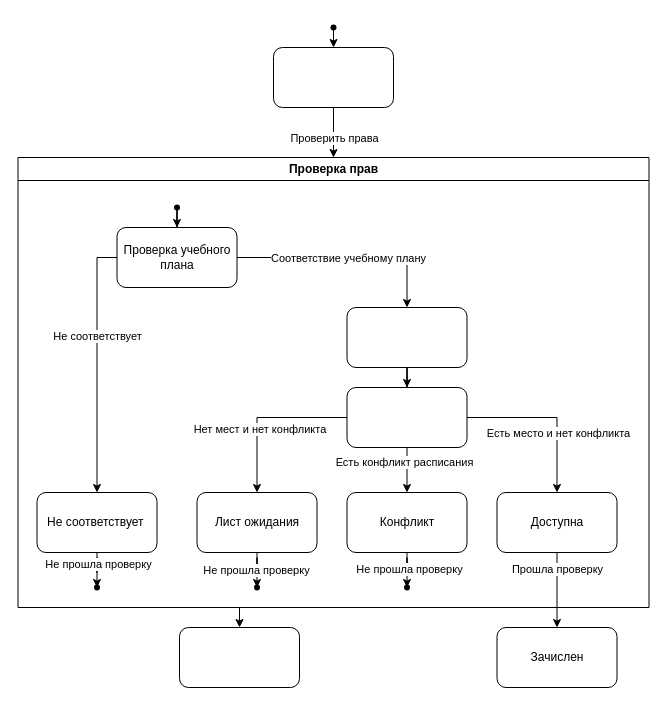
Image size: 666x705. Some labels were removed from this diagram. The box of each missing label's shape, as (x1, y1, x2, y2) in pixels:
Не зачислен: (178, 626, 300, 688)
Подана: (272, 46, 394, 108)
Проверка мест и описания: (346, 386, 467, 448)
Соответствует: (346, 306, 467, 368)
